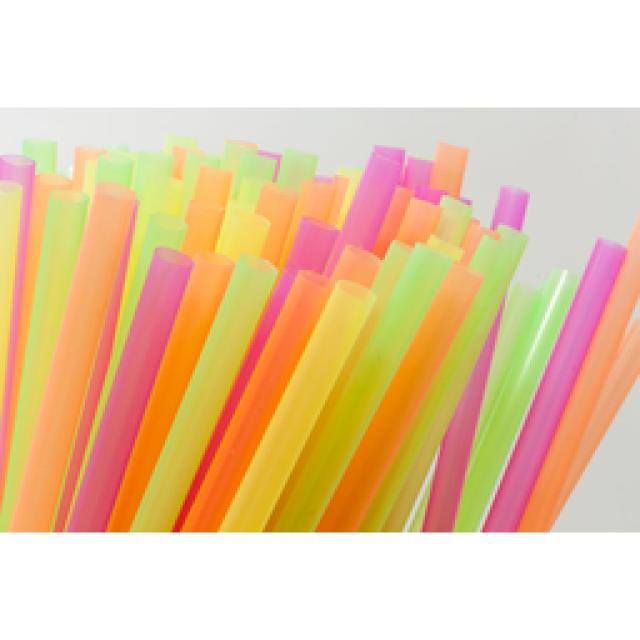plastic: (0, 140, 638, 530)
